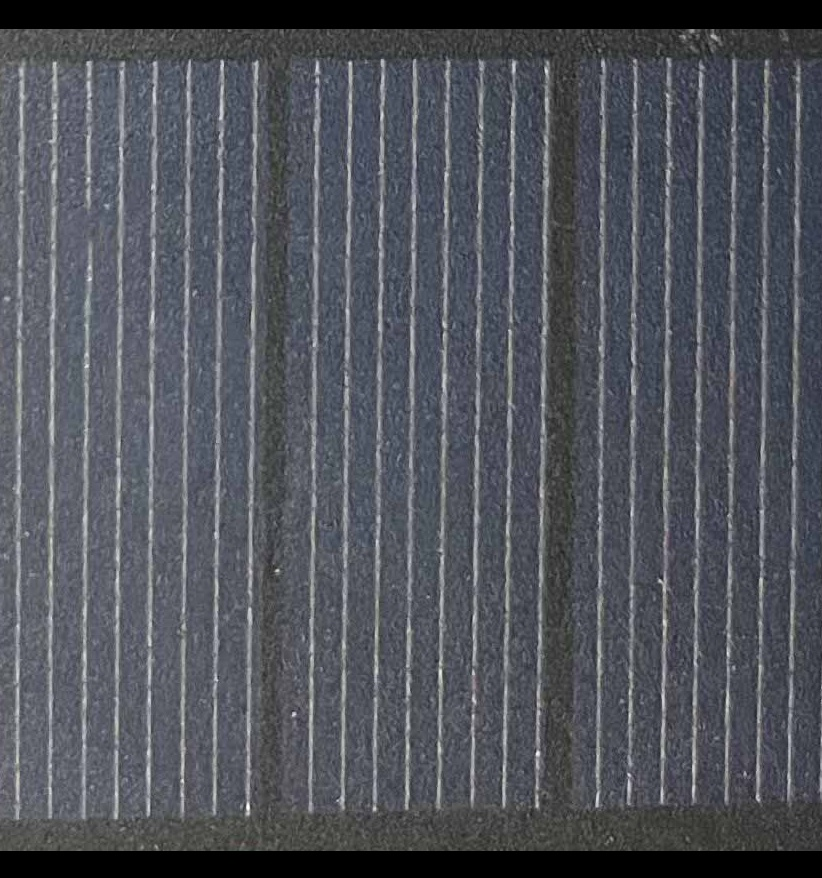Grid: (77, 189, 103, 249)
